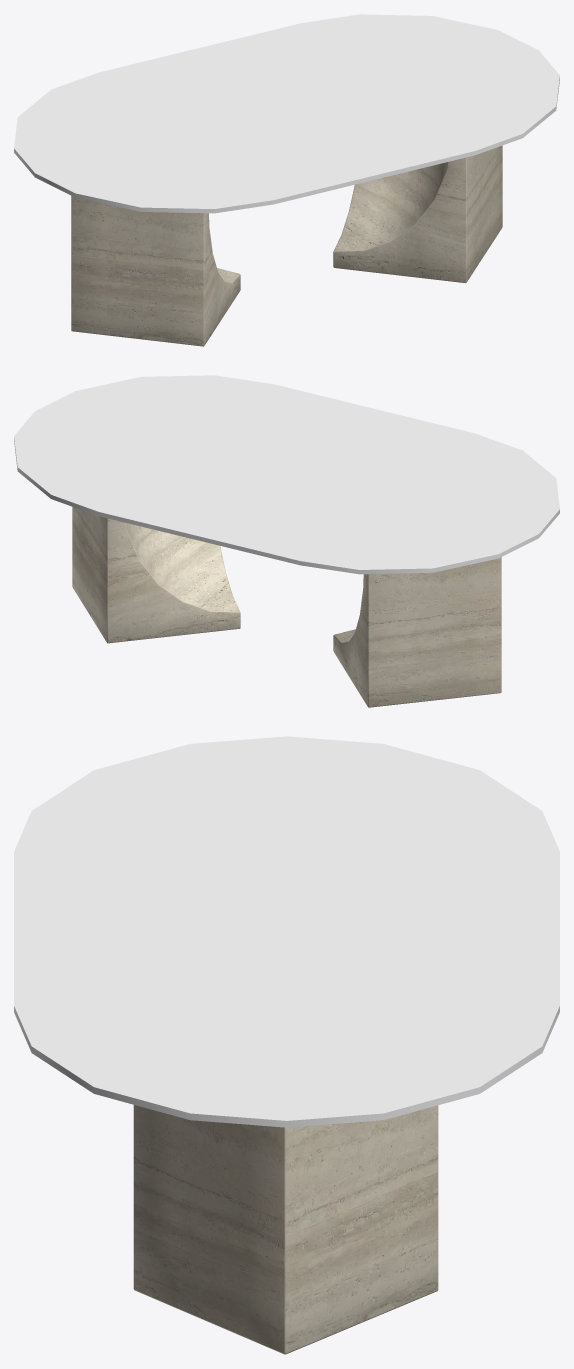
Rendered from coffee_table_marble.glb.
3 renders of one model, top to bottom at view 1: azimuth 30°, elevation 25°; view 2: azimuth 150°, elevation 25°; view 3: azimuth 270°, elevation 25°, orthographic. The views are drawn at different scales.
Parts seen in each view (by area): view 1: Cube.005; view 2: Cube.005; view 3: Cube.005.
Part boxes in pixels (left/top/right/bottom): Cube.005: left=14, top=14, right=559, bottom=346; Cube.005: left=14, top=375, right=559, bottom=707; Cube.005: left=14, top=736, right=559, bottom=1354.
Bounding box in the file's own units: 1.1 × 0.35 × 0.6601.
2 materials, 1 textured.
